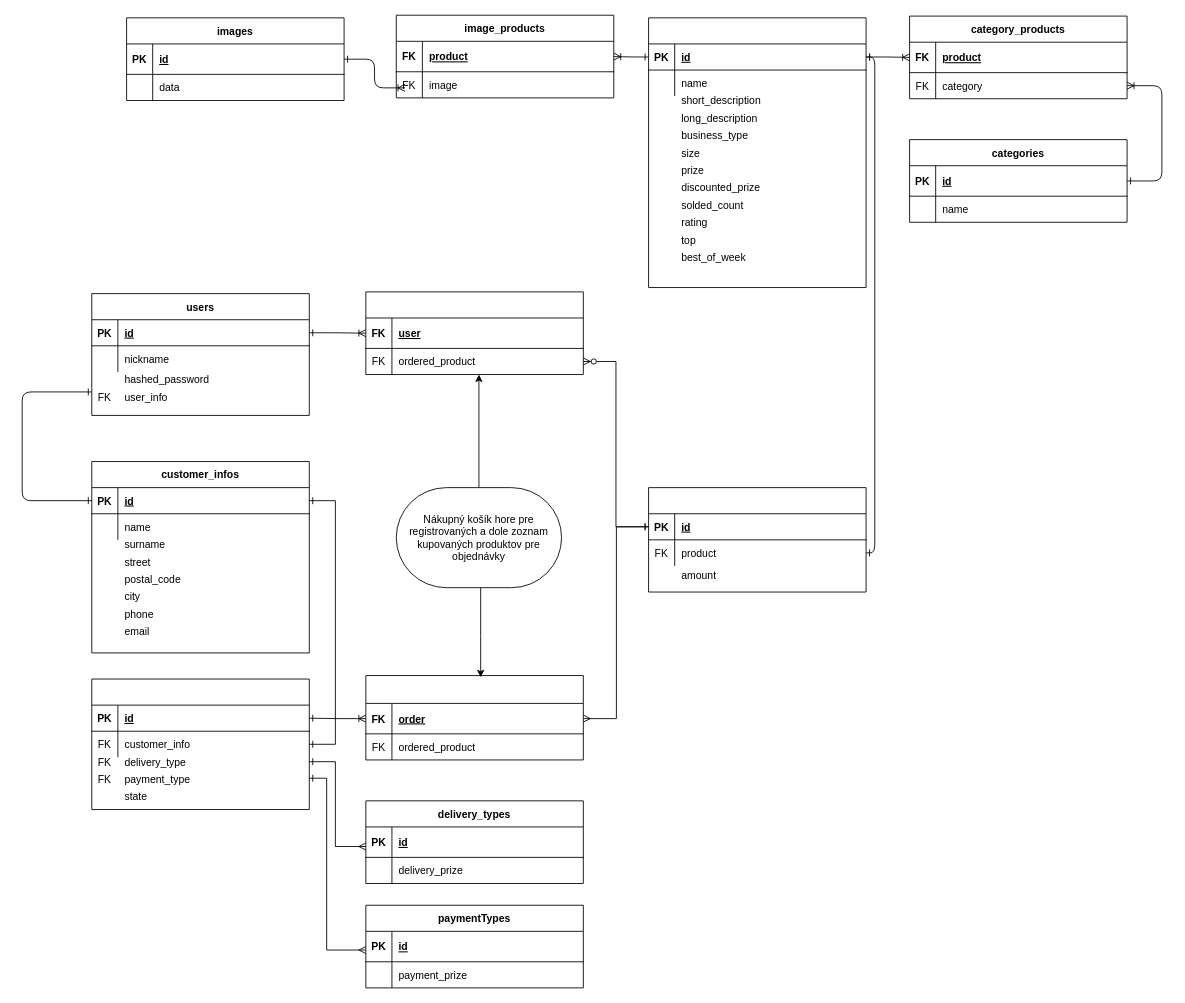
This 1185x1003 diagram has some shape labels left out. The box of each missing label's shape, as (x1, y1, x2, y2) in pixels:
order_product_groups: (365, 675, 583, 760)
orders: (91, 678, 309, 810)
product_groups: (648, 487, 866, 592)
products: (648, 17, 866, 288)
user_product_groups: (365, 291, 583, 375)
